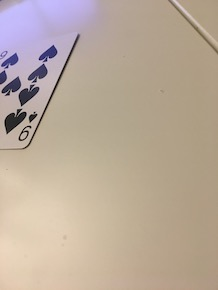NineOfSpades: (1, 27, 82, 152)
